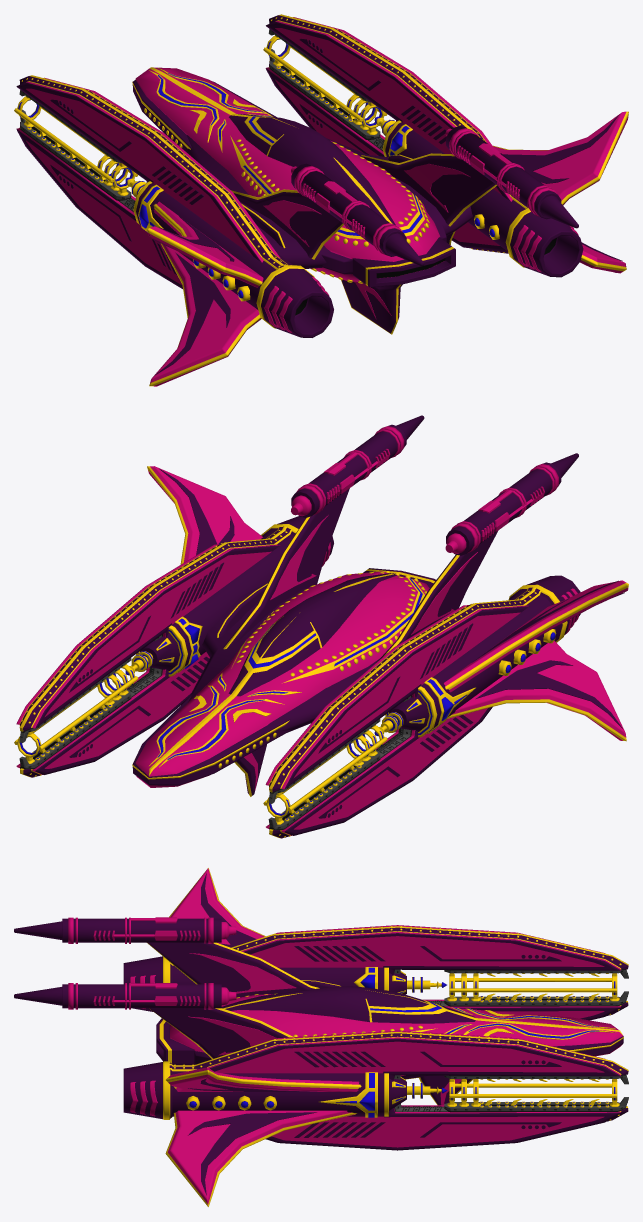
Rendered from AlienStarfighter37.obj.
3 renders of one model, top to bottom at view 1: azimuth 30°, elevation 25°; view 2: azimuth 150°, elevation 25°; view 3: azimuth 270°, elevation 25°, orthographic. The views are drawn at different scales.
Parts seen in each view (by area): view 1: Cylinder.003_Cylinder.005, Sphere_Sphere.002, Cylinder.001_Cylinder.006, Cube.001, Cube.005, Cylinder.004_Cylinder.002, Cube.004_Cube.002, Sphere.001_Sphere.003, Cylinder.010_Cylinder.003, Cube.006, Cube.019_Cube.034, Cylinder.006_Cylinder.007 (+12 smaller); view 2: Cylinder.003_Cylinder.005, Sphere_Sphere.002, Cylinder.001_Cylinder.006, Cube.005, Sphere.001_Sphere.003, Cube.001, Cylinder.004_Cylinder.002, Cube.004_Cube.002, Cylinder.010_Cylinder.003, Cube.006, Cube.010, Cube.019_Cube.034 (+10 smaller); view 3: Cylinder.003_Cylinder.005, Cylinder.001_Cylinder.006, Sphere_Sphere.002, Cylinder.004_Cylinder.002, Cube.001, Sphere.001_Sphere.003, Cube.004_Cube.002, Cube.006, Cube.005, Cylinder.022_Cylinder.030, Cube.010, Cube.017_Cube.028 (+12 smaller).
Boxes of the visible parts, x1,y1,x2,y2 form: Cylinder.003_Cylinder.005: [16, 14, 512, 288]; Sphere_Sphere.002: [132, 67, 455, 287]; Cylinder.001_Cylinder.006: [125, 116, 583, 337]; Cube.001: [230, 153, 496, 259]; Cube.005: [147, 111, 628, 287]; Cylinder.004_Cylinder.002: [291, 126, 578, 265]; Cube.004_Cube.002: [149, 243, 626, 386]; Sphere.001_Sphere.003: [229, 114, 395, 225]; Cylinder.010_Cylinder.003: [183, 135, 472, 268]; Cube.006: [19, 29, 380, 200]; Cube.019_Cube.034: [155, 242, 622, 375]; Cylinder.006_Cylinder.007: [341, 280, 402, 334]; Cylinder.003_Cylinder.005: [16, 538, 529, 838]; Sphere_Sphere.002: [132, 568, 435, 787]; Cylinder.001_Cylinder.006: [125, 516, 580, 737]; Cube.005: [147, 466, 628, 692]; Sphere.001_Sphere.003: [228, 573, 396, 696]; Cube.001: [223, 488, 498, 662]; Cylinder.004_Cylinder.002: [291, 415, 578, 555]; Cube.004_Cube.002: [447, 640, 626, 741]; Cylinder.010_Cylinder.003: [188, 587, 379, 732]; Cube.006: [19, 658, 380, 830]; Cube.010: [170, 562, 473, 751]; Cube.019_Cube.034: [476, 660, 622, 728]; Cylinder.003_Cylinder.005: [193, 925, 628, 1150]; Cylinder.001_Cylinder.006: [123, 956, 447, 1119]; Sphere_Sphere.002: [156, 994, 623, 1076]; Cylinder.004_Cylinder.002: [14, 918, 236, 1008]; Cube.001: [147, 942, 319, 1059]; Sphere.001_Sphere.003: [221, 986, 476, 1023]; Cube.004_Cube.002: [165, 1110, 356, 1206]; Cube.006: [444, 969, 628, 1112]; Cube.005: [166, 868, 361, 1091]; Cylinder.022_Cylinder.030: [449, 978, 616, 1097]; Cube.010: [294, 946, 385, 1137]; Cube.017_Cube.028: [188, 953, 296, 1055].
Bounding box in the file's own units: 6.19 × 2.36 × 7.88.
